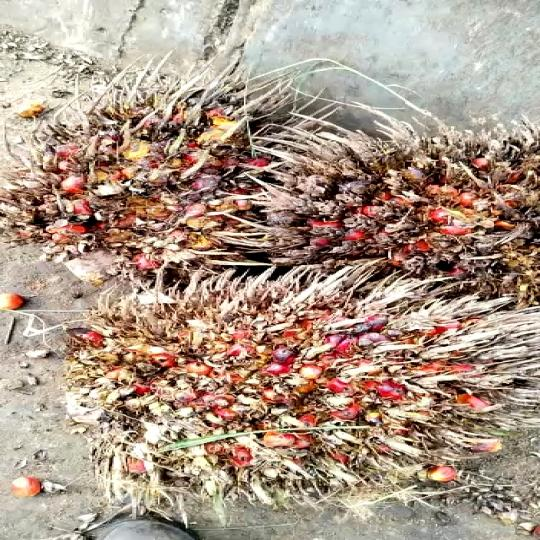terlalu masak: (58, 264, 540, 508), (0, 64, 368, 276)
